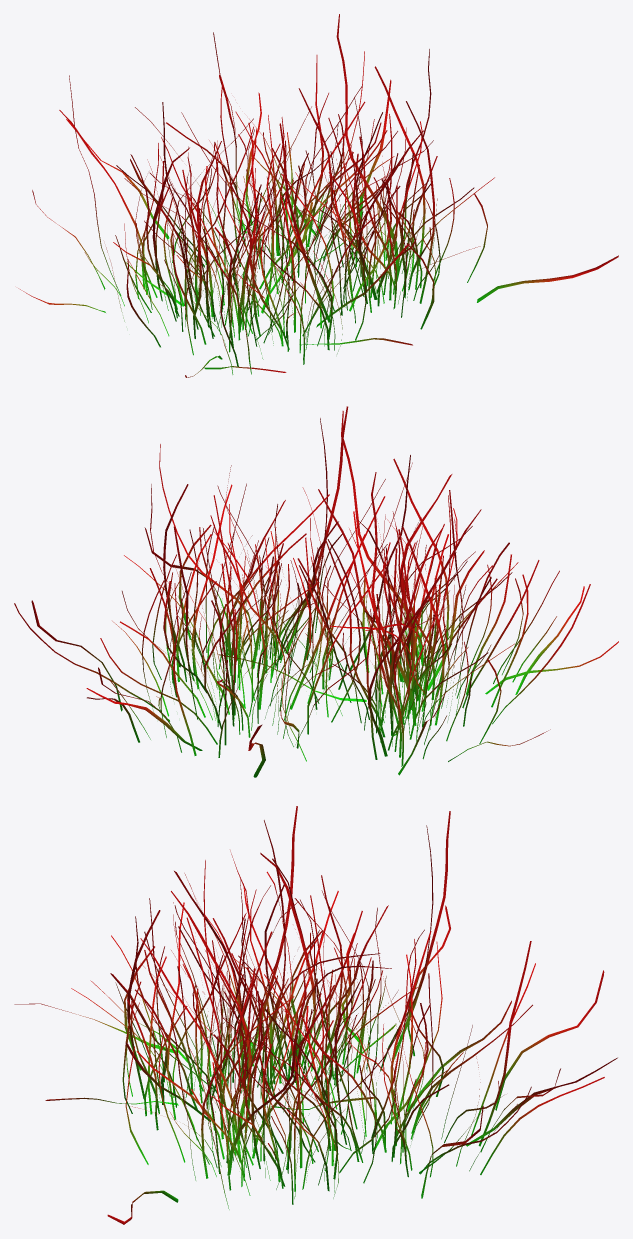
Rendered from Tundra Grass_LOD0_Var30_wk2oaeyqx.fbx.
3 renders of one model, top to bottom at view 1: azimuth 30°, elevation 25°; view 2: azimuth 150°, elevation 25°; view 3: azimuth 270°, elevation 25°, orthographic. The views are drawn at different scales.
Visible parts, largest first — view 1: _8n06_Var30_LOD0; view 2: _8n06_Var30_LOD0; view 3: _8n06_Var30_LOD0.
Boxes of the visible parts, bbox=[...] form: _8n06_Var30_LOD0: bbox=[18, 14, 618, 377]; _8n06_Var30_LOD0: bbox=[14, 406, 618, 777]; _8n06_Var30_LOD0: bbox=[14, 806, 617, 1224].
Bounding box in the file's own units: 43.43 × 19 × 40.95.
